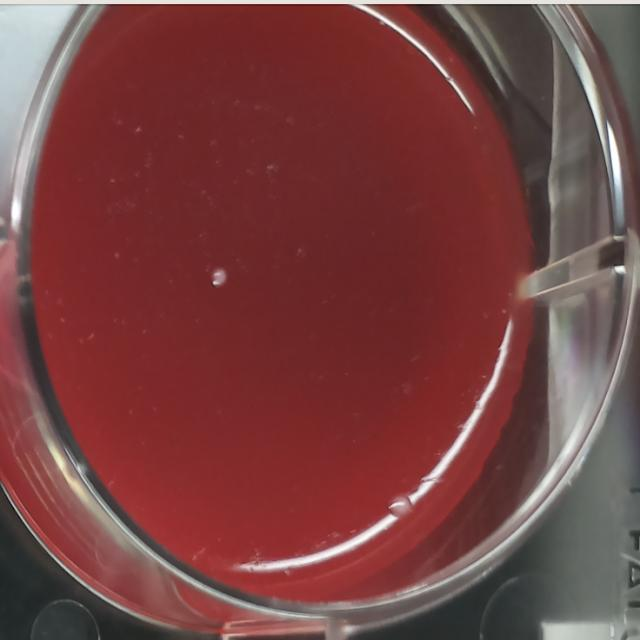Staphylococcus: (207, 262, 232, 294)
